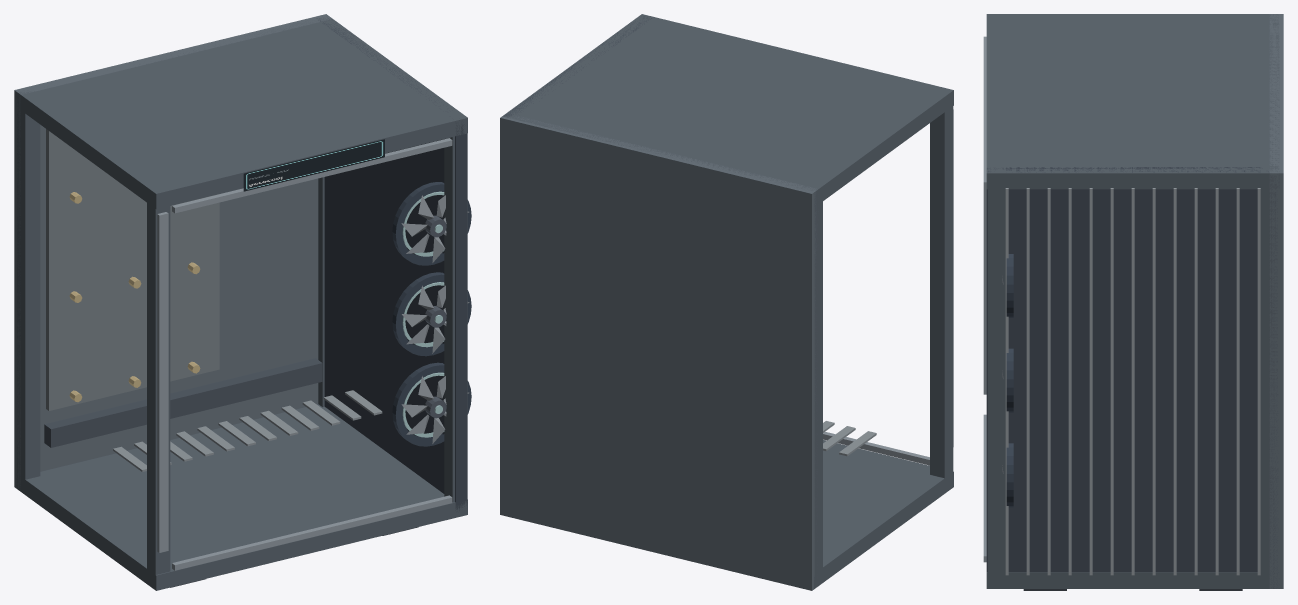
File: case_chasis_aerocool_cs_107_matx_mesh.glb
3 views of the same model, side by side, from view 1: azimuth 30°, elevation 25°; view 2: azimuth 150°, elevation 25°; view 3: azimuth 270°, elevation 25° (orthographic). The views are drawn at different scales.
Parts seen in each view (by area): view 1: n2, n1, n3, n5, n9, n7, n10, n8, n12, n0, n11, n13 (+1 smaller); view 2: n1, n2, n9, n8; view 3: n3, n2, n4, n1, n9, n10.
Boxes of the visible parts, x1,y1,x2,y2 form: n2: (16, 15, 467, 590); n1: (14, 14, 332, 491); n3: (316, 18, 467, 511); n5: (46, 129, 219, 410); n9: (157, 138, 452, 570); n7: (44, 358, 322, 447); n10: (392, 182, 471, 446); n8: (113, 390, 382, 471); n12: (401, 195, 469, 443); n0: (243, 139, 384, 191); n11: (402, 191, 444, 437); n13: (425, 215, 446, 418); n1: (500, 116, 818, 590); n2: (502, 14, 953, 589); n9: (823, 109, 953, 465); n8: (823, 421, 876, 456); n3: (986, 167, 1268, 572); n2: (986, 14, 1279, 588); n4: (1005, 188, 1260, 575); n1: (1269, 14, 1283, 588); n9: (983, 36, 986, 562); n10: (1006, 254, 1013, 507).
Bounding box in the file's own units: 1.54 × 1.88 × 1.18.
1 material, 1 textured.
